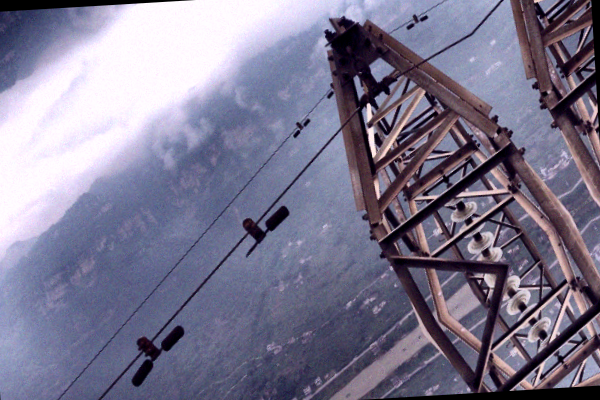damper: (127, 323, 186, 388), (404, 12, 430, 30), (292, 116, 312, 138)
damper_defect: (237, 203, 291, 262)
